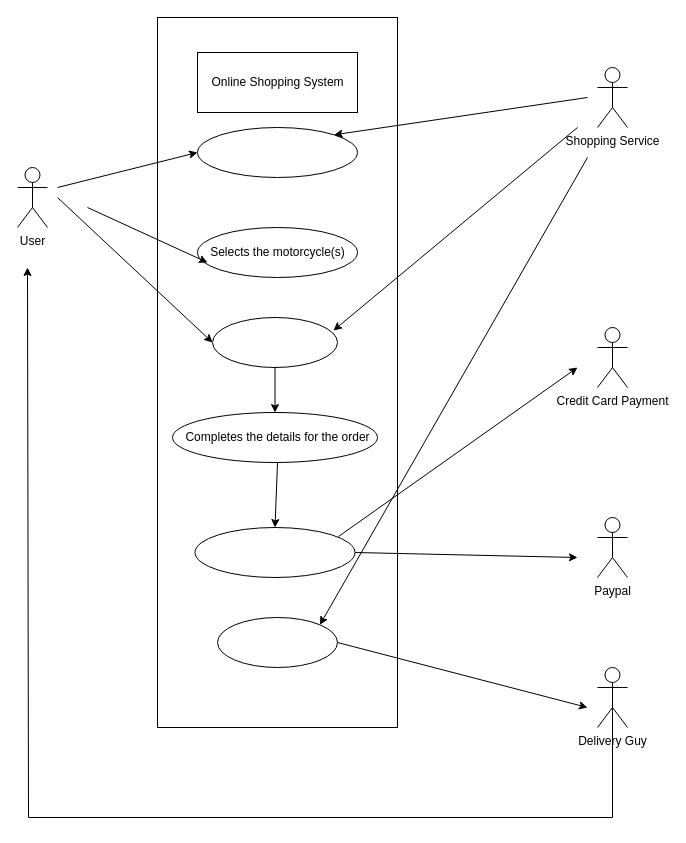
Image size: 686x843. Some labels were removed from this diagram. Here are the shapes that lost their labels. From the top down, the centre of each, then its label:
point 277,152: Views motorcycles
point 275,342: Makes the order
point 274,552: Makes payment
point 277,642: Delivery Service
